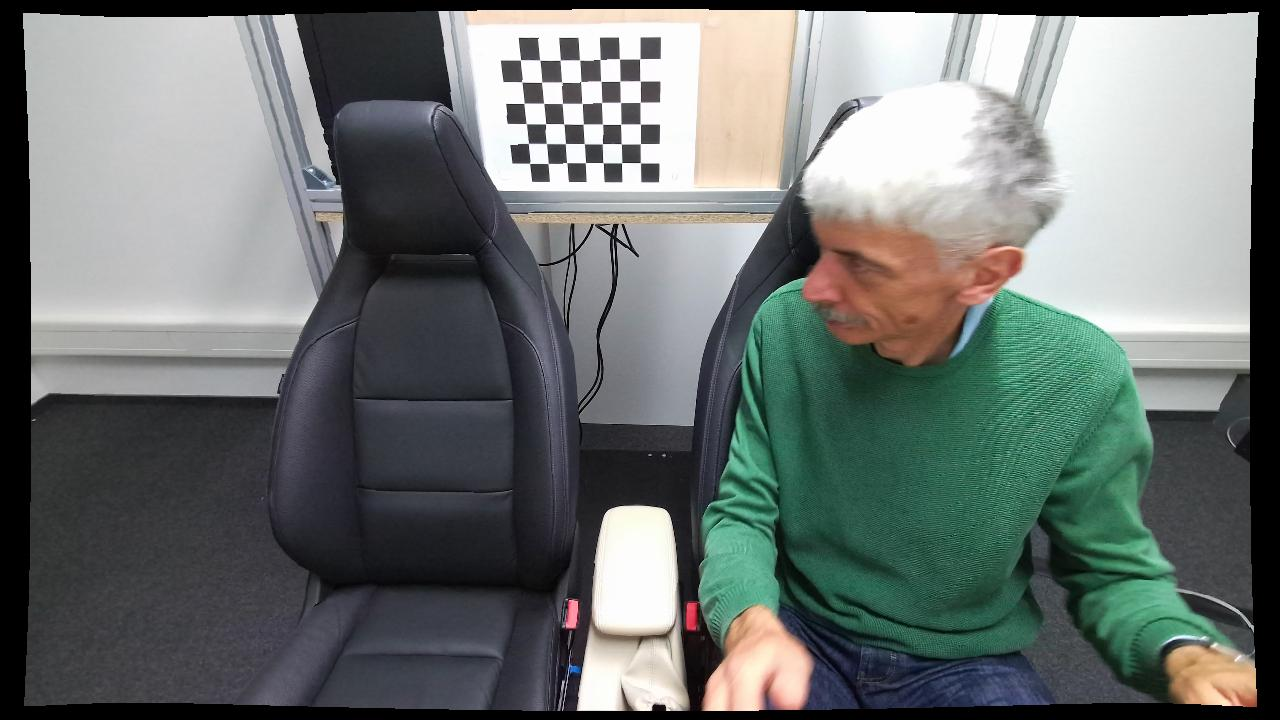Distracted: (702, 78, 1190, 713)
